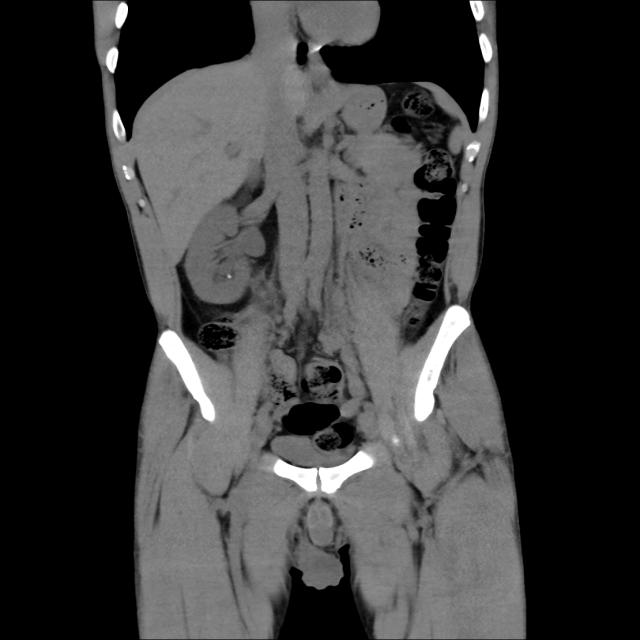kidneystone: (226, 270, 233, 278)
